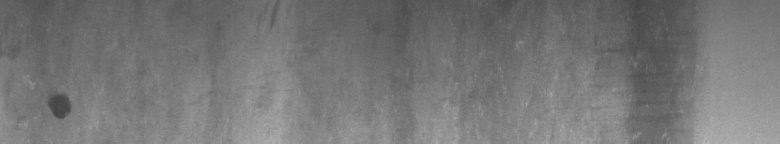fi: (18, 76, 76, 126)
